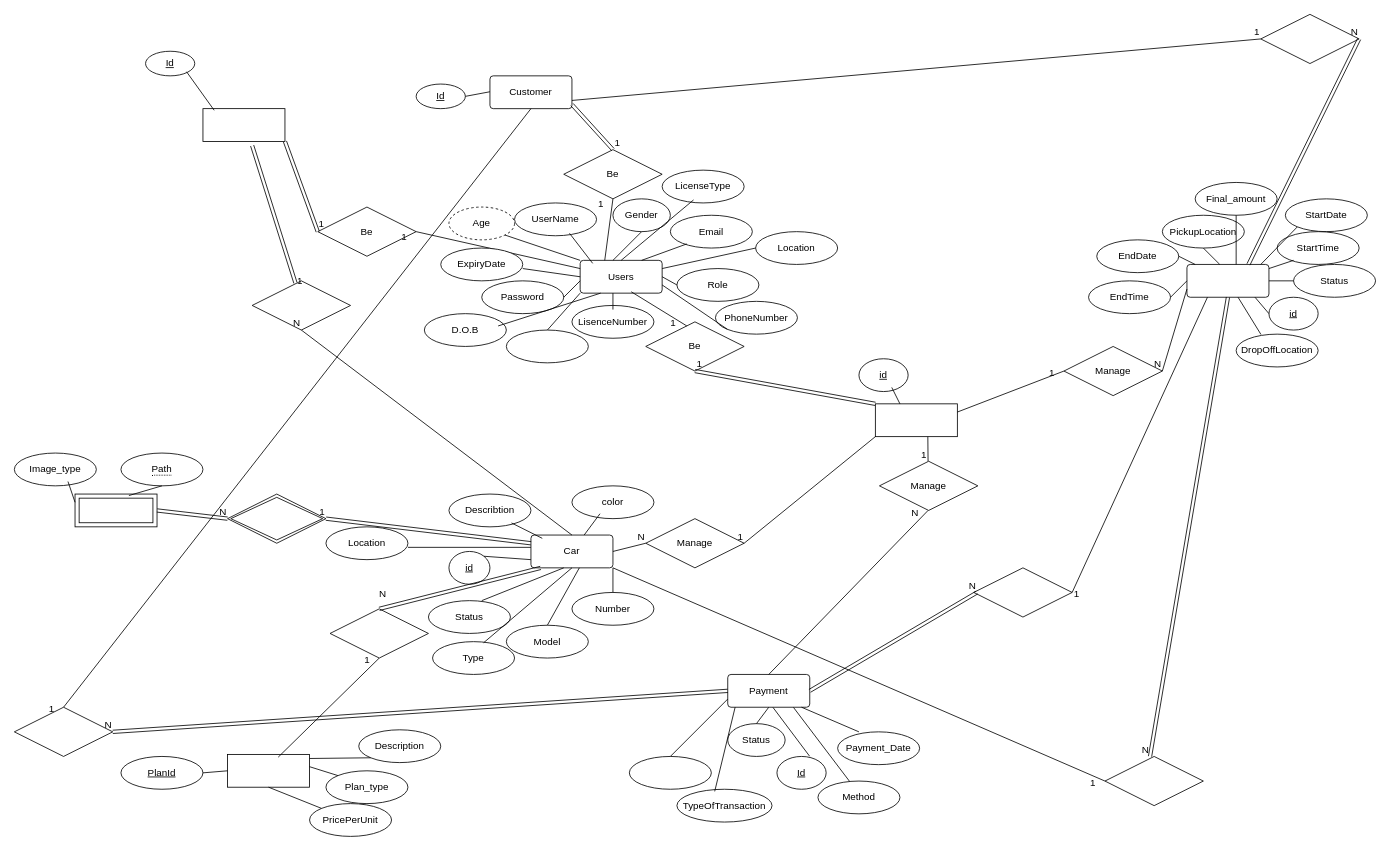
Some shapes in this 1390 by 851 pixel diagram are drawn without their labels. The box of each missing label's shape, as (x1, y1, x2, y2) in pixels:
Admin: (875, 403, 957, 437)
Assigned to: (973, 567, 1072, 617)
AssignedTo: (1104, 756, 1203, 806)
BelongsTo: (329, 608, 428, 658)
Car owner: (202, 108, 285, 141)
CarImage: (74, 493, 157, 527)
Has: (227, 493, 326, 543)
Own: (251, 280, 351, 330)
Paid_amount: (629, 756, 711, 789)
Pay: (14, 706, 113, 756)
PricingPlan: (227, 754, 310, 787)
Rent: (1260, 14, 1359, 64)
Reservation: (1186, 264, 1269, 297)
User_Id: (506, 329, 588, 363)
